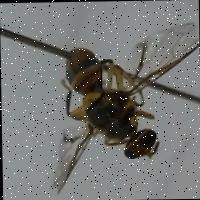Oriental-fruit-fly: (35, 18, 200, 200)
